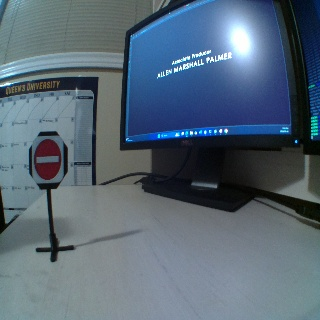sign_noentry: (30, 136, 63, 180)
